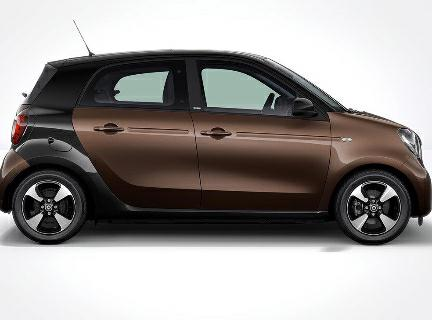smart-forfour: (0, 40, 432, 259)
